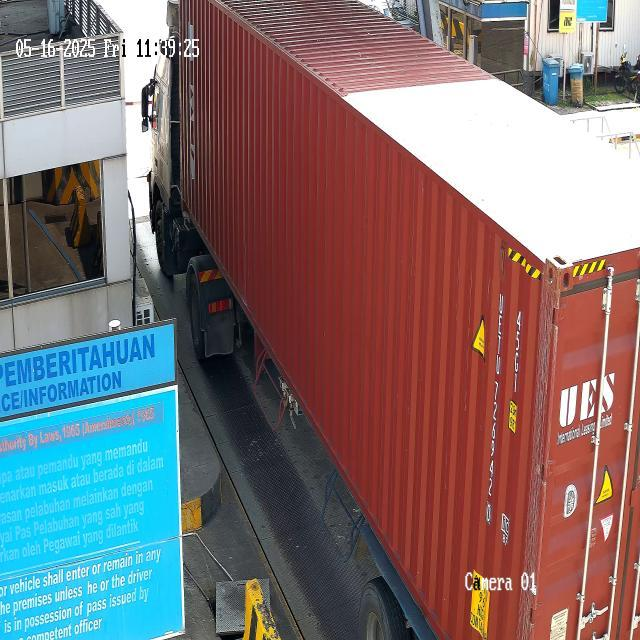ISO: (512, 306, 524, 401)
container_number: (482, 289, 505, 533)
